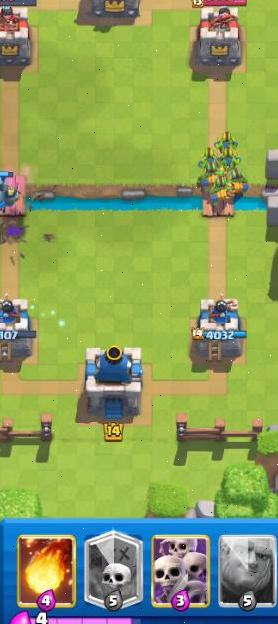player_mega_minion: (0, 164, 23, 217)
player_spear_goblins: (208, 176, 232, 204), (226, 166, 250, 194), (217, 145, 241, 173), (195, 150, 218, 177), (213, 125, 239, 148), (196, 168, 220, 192)
